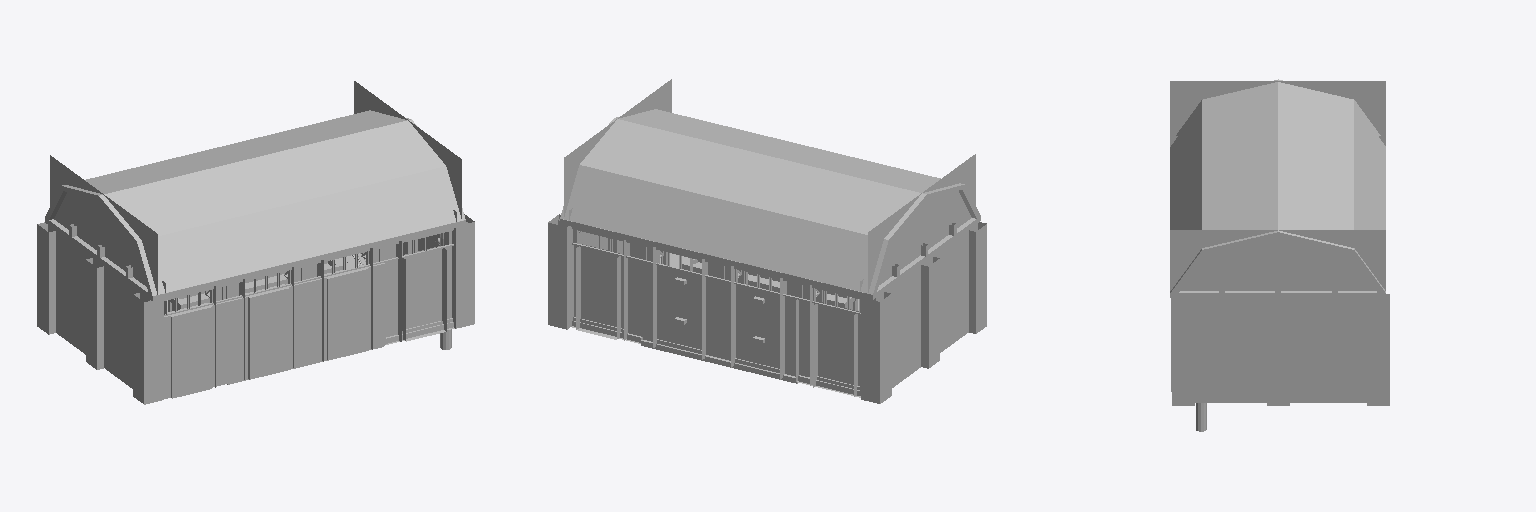
Rendered from map.obj.
The picture shows the model from 3 angles: view 1: azimuth 30°, elevation 25°; view 2: azimuth 150°, elevation 25°; view 3: azimuth 270°, elevation 25°; orthographic projection.
Parts seen in each view (by area): view 1: pTorus2, polySurface111 pCube201, pCube41, pCube45, pCube84, pCube82, pCube197, pCube199, pCube198, pCube47, pCube44, pCube178 (+11 smaller); view 2: pTorus2, pCube122, polySurface111 pCube201, pCube121, pCube123, pCube120, pCube200, pCube198, pCube199, pCube180, pCube196, pCube197 (+11 smaller); view 3: pTorus2, pCube201 polySurface110, pCube175, pCube176, polySurface111 pCube201, pCube180, pCube178, pCube181, pCube168.
Part boxes in pixels (bbox=[...]): pTorus2: bbox=[45, 110, 465, 295]; polySurface111 pCube201: bbox=[50, 155, 157, 294]; pCube41: bbox=[385, 246, 454, 344]; pCube45: bbox=[245, 284, 289, 379]; pCube84: bbox=[168, 303, 211, 398]; pCube82: bbox=[324, 265, 367, 360]; pCube197: bbox=[133, 293, 163, 404]; pCube199: bbox=[48, 225, 98, 354]; pCube198: bbox=[99, 262, 148, 388]; pCube47: bbox=[229, 282, 307, 382]; pCube44: bbox=[307, 263, 385, 363]; pCube178: bbox=[444, 214, 474, 328]; pTorus2: bbox=[560, 109, 980, 294]; pCube122: bbox=[643, 262, 720, 357]; polySurface111 pCube201: bbox=[868, 154, 975, 292]; pCube121: bbox=[721, 281, 798, 381]; pCube123: bbox=[572, 245, 642, 343]; pCube120: bbox=[797, 300, 860, 397]; pCube200: bbox=[861, 292, 891, 403]; pCube198: bbox=[927, 224, 977, 352]; pCube199: bbox=[876, 261, 926, 387]; pCube180: bbox=[548, 214, 578, 329]; pCube196: bbox=[921, 257, 939, 368]; pCube197: bbox=[969, 222, 986, 333]; pTorus2: bbox=[1170, 79, 1385, 292]; pCube201 polySurface110: bbox=[1170, 230, 1385, 290]; pCube175: bbox=[1278, 298, 1379, 402]; pCube176: bbox=[1177, 298, 1277, 402]; polySurface111 pCube201: bbox=[1170, 81, 1385, 135]; pCube180: bbox=[1367, 294, 1389, 405]; pCube178: bbox=[1172, 298, 1194, 405]; pCube181: bbox=[1267, 303, 1289, 405]; pCube168: bbox=[1186, 291, 1369, 297].
Size of the model in its own units: 67.62 by 39 by 38.88.